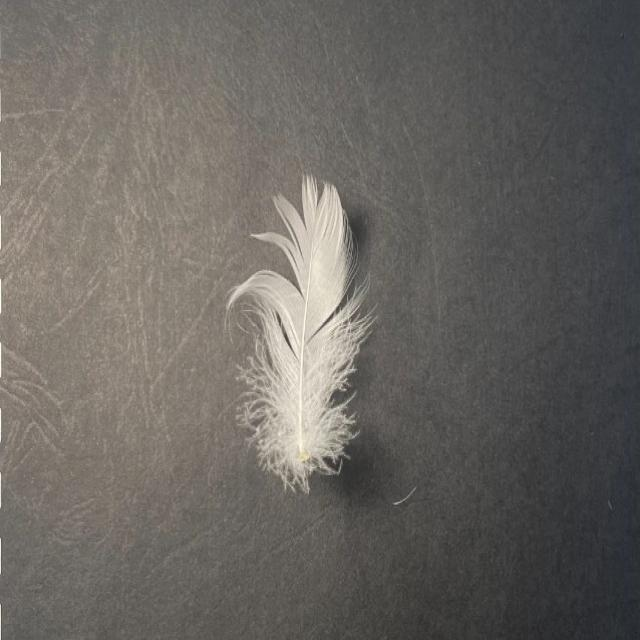feather: (225, 170, 369, 490)
